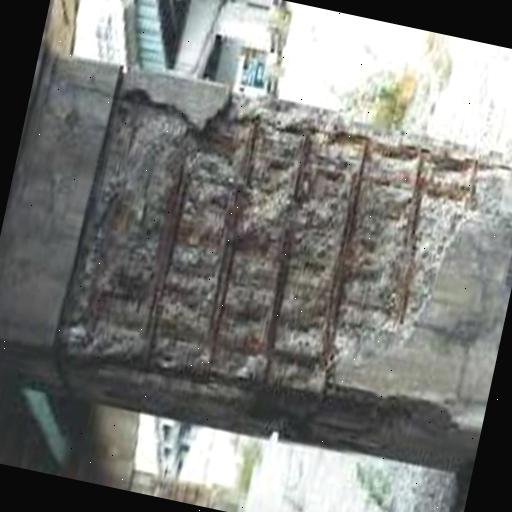spalling: (50, 64, 510, 462)
